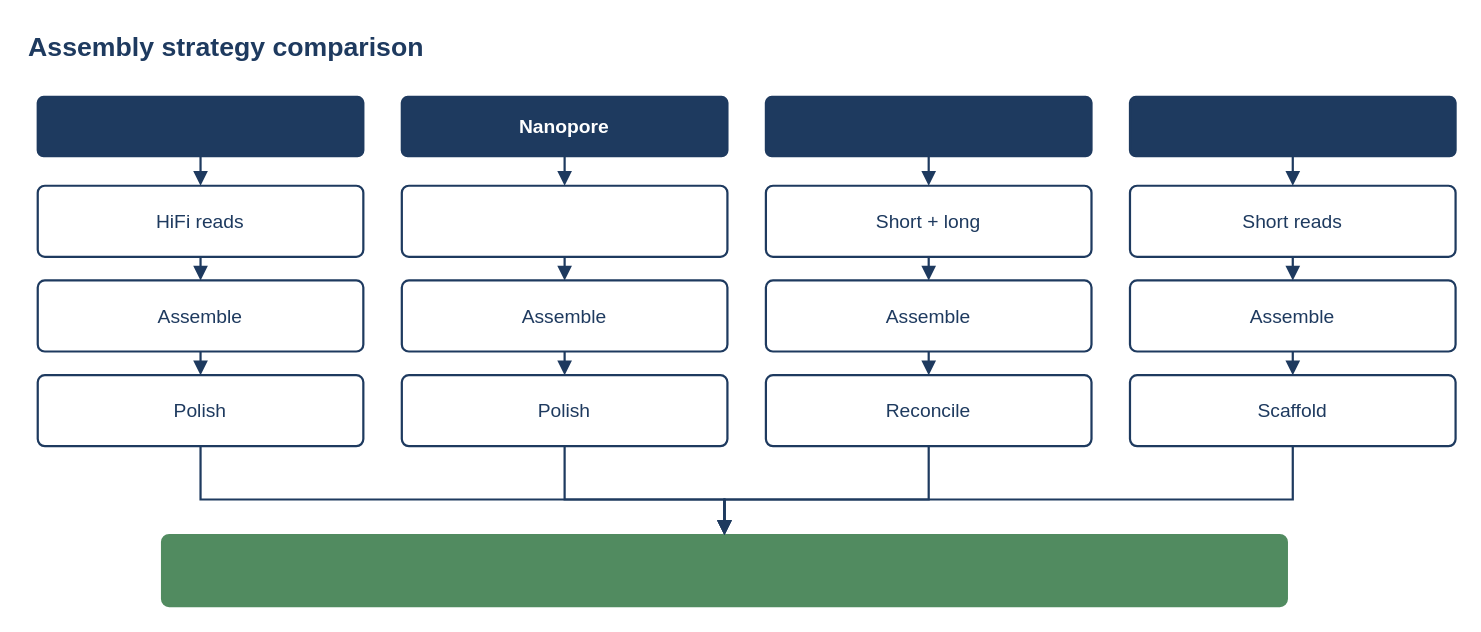
Image size: 1481x632. Some labels were removed from this diagram. Here are the shapes that lost their labels. From the top down, the box of each, then its label:
(36, 95, 364, 157): HiFi
(764, 95, 1092, 157): Hybrid
(1128, 95, 1456, 157): Short read
(400, 184, 728, 257): Long reads
(160, 533, 1287, 607): Shared evaluation: BUSCO, QV, mis-joins
